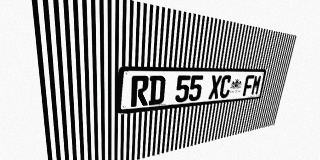5: (175, 75, 191, 103), (188, 75, 203, 101)
C: (219, 75, 232, 98)
D: (148, 76, 166, 105)
F: (242, 75, 254, 96)
M: (250, 75, 262, 95)
R: (131, 76, 149, 107)
X: (208, 75, 222, 99)
